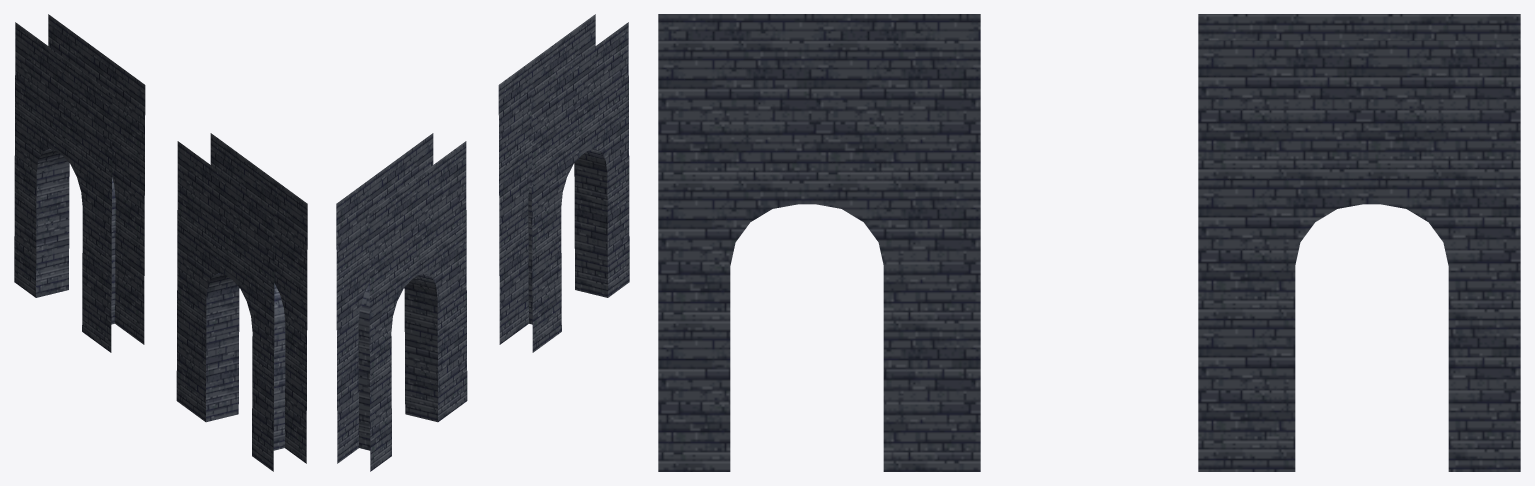
The model's file is IE_Arch.fbx.
The picture shows the model from 3 angles, left to right: view 1: azimuth 30°, elevation 25°; view 2: azimuth 150°, elevation 25°; view 3: azimuth 270°, elevation 25°; orthographic projection. The views are drawn at different scales.
Parts seen in each view (by area): view 1: IE_Arch; view 2: IE_Arch; view 3: IE_Arch.
Boxes of the visible parts, x1=… form: IE_Arch: x1=14, y1=14, x2=307, y2=471; IE_Arch: x1=336, y1=14, x2=629, y2=471; IE_Arch: x1=658, y1=14, x2=1520, y2=471.
Size of the model in its own units: 82.1 by 599 by 1084.
1 material, 1 textured.
